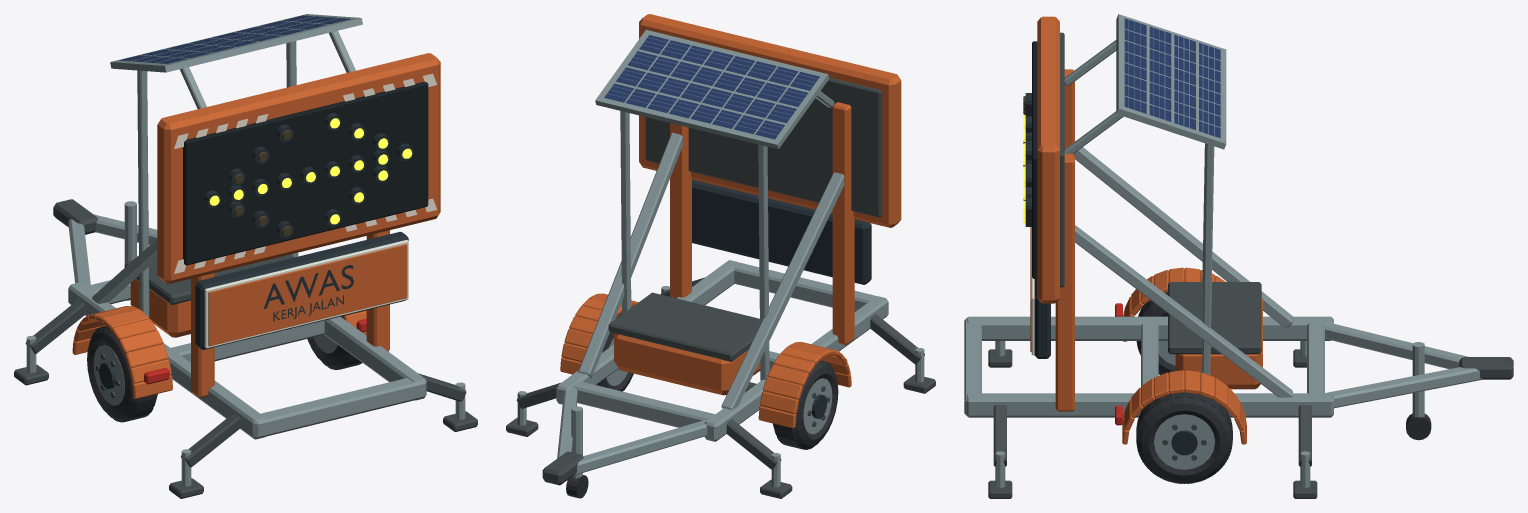
3 renders of one model, left to right at view 1: azimuth 30°, elevation 25°; view 2: azimuth 150°, elevation 25°; view 3: azimuth 270°, elevation 25°, orthographic. The views are drawn at different scales.
Parts seen in each view (by area): view 1: Optic Board, Arrow Board Frame, Work Zone Notice, Chassis Crossmembers, Chassis Rails, Formed Mudguards, Solar Panel Stays, LED Bezel Rings, Deployed Corner Jacks, Solar Module Frame, Battery and Switch Box, Solar Cells (+11 smaller); view 2: Arrow Board Back, Solar Cells, Battery and Switch Box, Arrow Board Frame, Work Zone Notice, Upright Frame, Rear Backstays, Solar Module Frame, Formed Mudguards, Chassis Crossmembers, Chassis Rails, Solar Panel Stays (+8 smaller); view 3: Chassis Rails, Solar Cells, Rear Backstays, Battery and Switch Box, Arrow Board Frame, Rubber Tyres, Solar Module Frame, A Frame Towbar, Upright Frame, Formed Mudguards, Chassis Crossmembers, Solar Panel Stays (+11 smaller).
Boxes of the visible parts, <box> form: Optic Board: <box>183,81,428,265</box>; Arrow Board Frame: <box>157,53,440,283</box>; Work Zone Notice: <box>195,232,408,349</box>; Chassis Crossmembers: <box>86,280,426,438</box>; Chassis Rails: <box>68,282,426,439</box>; Formed Mudguards: <box>72,306,366,398</box>; Solar Panel Stays: <box>137,30,355,317</box>; LED Bezel Rings: <box>203,113,413,238</box>; Deployed Corner Jacks: <box>25,299,466,486</box>; Solar Module Frame: <box>110,14,362,72</box>; Battery and Switch Box: <box>124,254,294,337</box>; Solar Cells: <box>119,15,350,63</box>; Arrow Board Back: <box>645,77,882,217</box>; Solar Cells: <box>604,35,819,139</box>; Battery and Switch Box: <box>608,292,760,395</box>; Arrow Board Frame: <box>639,14,901,227</box>; Work Zone Notice: <box>692,179,871,284</box>; Upright Frame: <box>670,102,854,344</box>; Rear Backstays: <box>578,132,844,409</box>; Solar Module Frame: <box>595,29,829,149</box>; Formed Mudguards: <box>560,293,851,428</box>; Chassis Crossmembers: <box>572,262,876,427</box>; Chassis Rails: <box>556,260,888,441</box>; Solar Panel Stays: <box>620,91,834,380</box>; Chassis Rails: <box>965,316,1333,417</box>; Solar Cells: <box>1124,18,1220,138</box>; Rear Backstays: <box>1074,141,1293,397</box>; Battery and Switch Box: <box>1168,282,1262,389</box>; Arrow Board Frame: <box>1037,16,1059,303</box>; Rubber Tyres: <box>1136,292,1232,483</box>; Solar Module Frame: <box>1116,14,1226,149</box>; A Frame Towbar: <box>1324,323,1482,408</box>; Upright Frame: <box>1055,69,1074,411</box>; Formed Mudguards: <box>1122,267,1246,444</box>; Chassis Crossmembers: <box>964,318,1324,414</box>; Solar Panel Stays: <box>1064,40,1214,375</box>.
Size of the model in its own units: 2.24 by 2.68 by 3.64.
